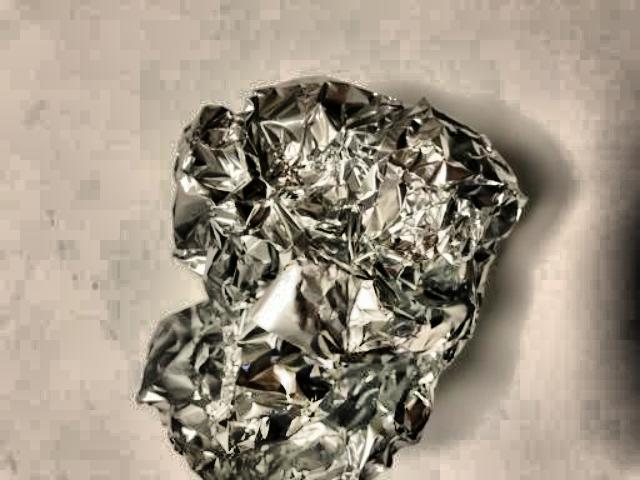Almennt: (104, 69, 530, 480)
